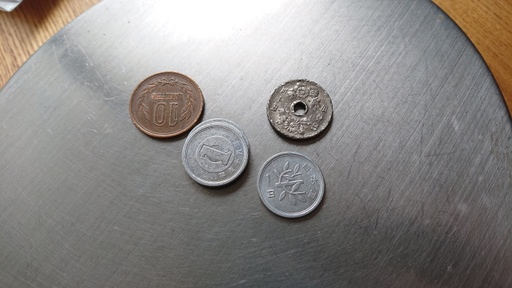10yen: (129, 71, 204, 139)
1yen: (256, 151, 324, 219), (181, 122, 248, 185)
50yen: (266, 79, 333, 141)
